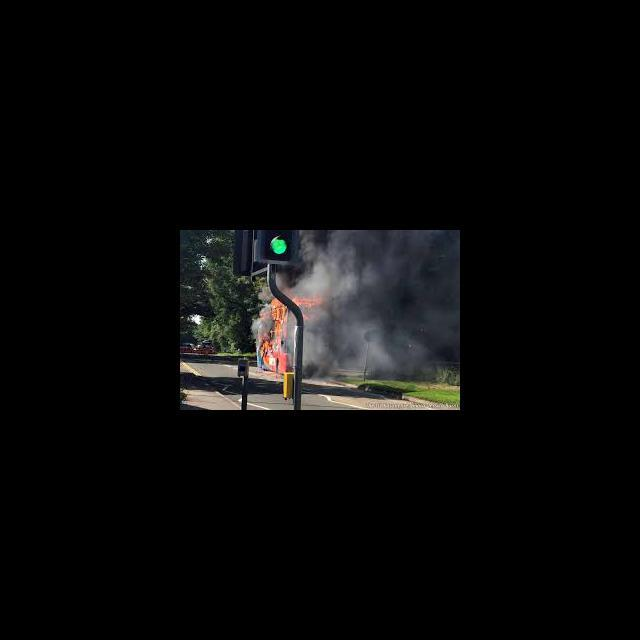Fire: (260, 288, 322, 361)
Smoke: (328, 231, 459, 381)
